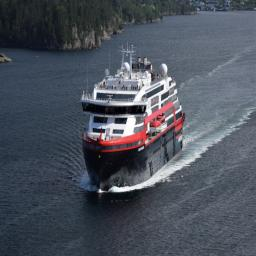cruises: (79, 41, 190, 195)
